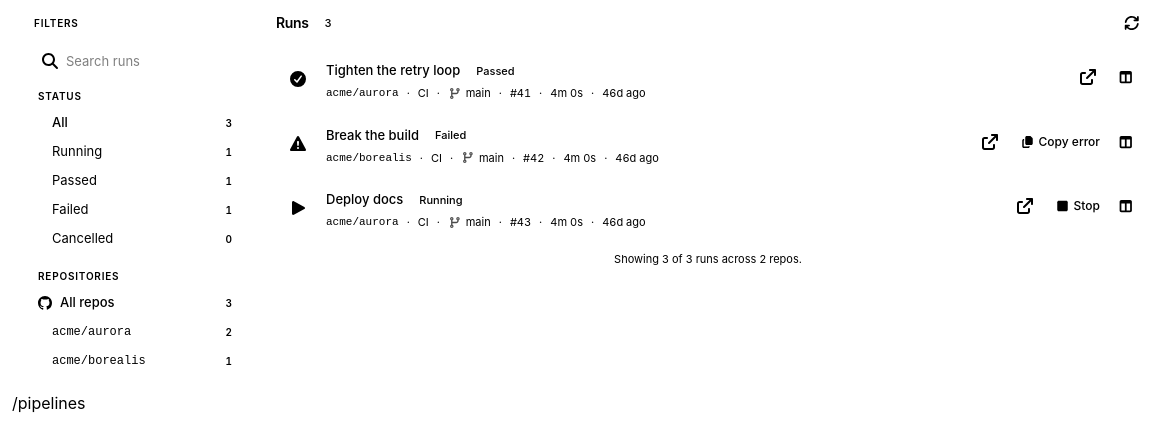
Test: PipelinesPage run list › filters by outcome, with a count on every tab
Expected: the text "Tighten the retry loop" is shown, x1=326 y1=62 x2=460 y2=80
Click the button "Failed 1". click: (136, 210)
box: x1=28 y1=196 x2=244 y2=224
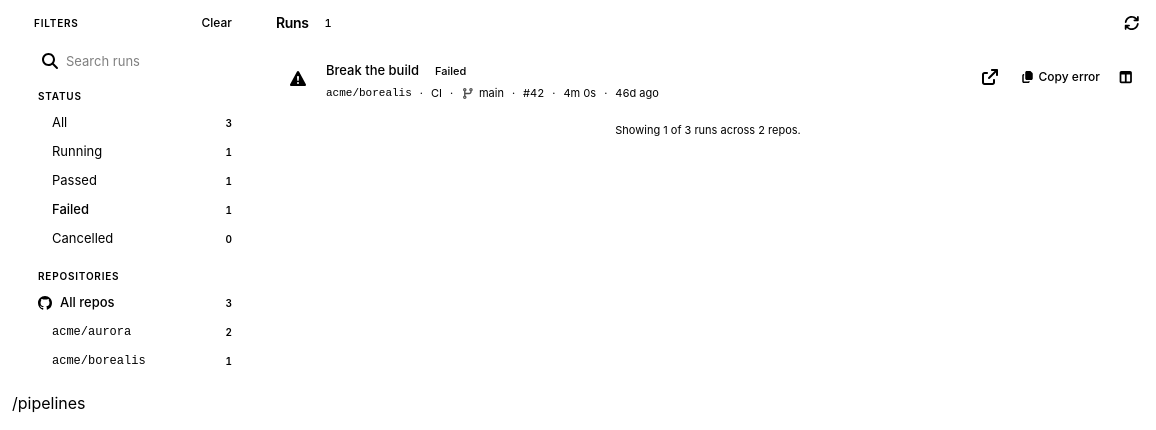
Expected: the text "Break the build" is shown, x1=326 y1=62 x2=419 y2=80
Now the button "Tighten the retry loop" is gone
Now the text "Showing 1 of 3 runs across 2 repos." is shown, box x1=615 y1=122 x2=801 y2=136
